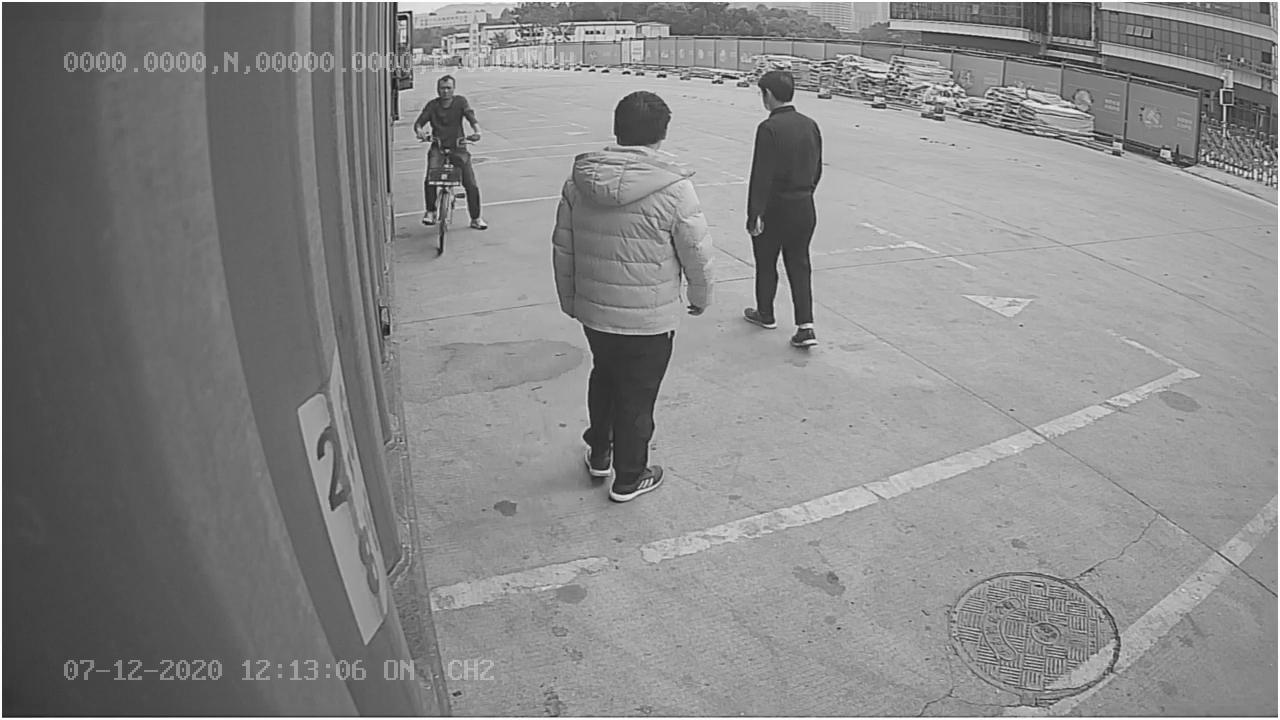person: (547, 84, 715, 502), (744, 66, 826, 354)
